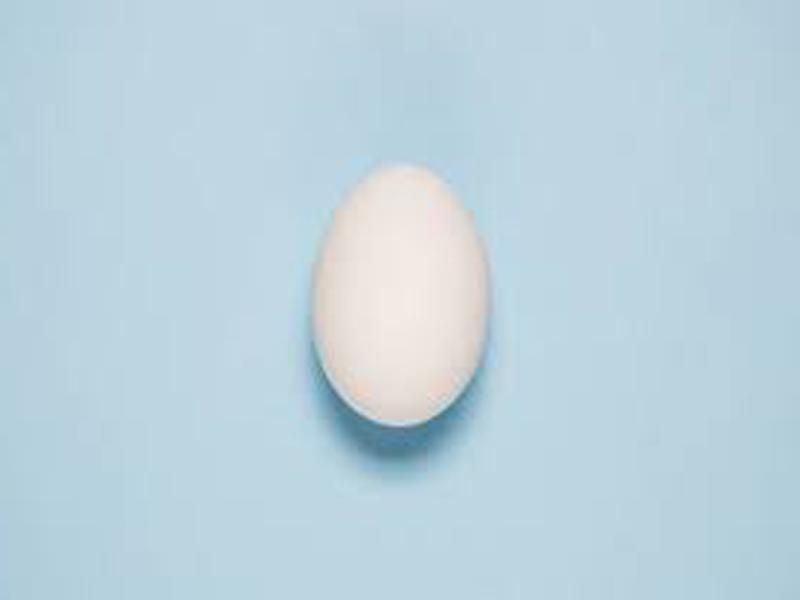Eggs: (313, 161, 491, 426)
